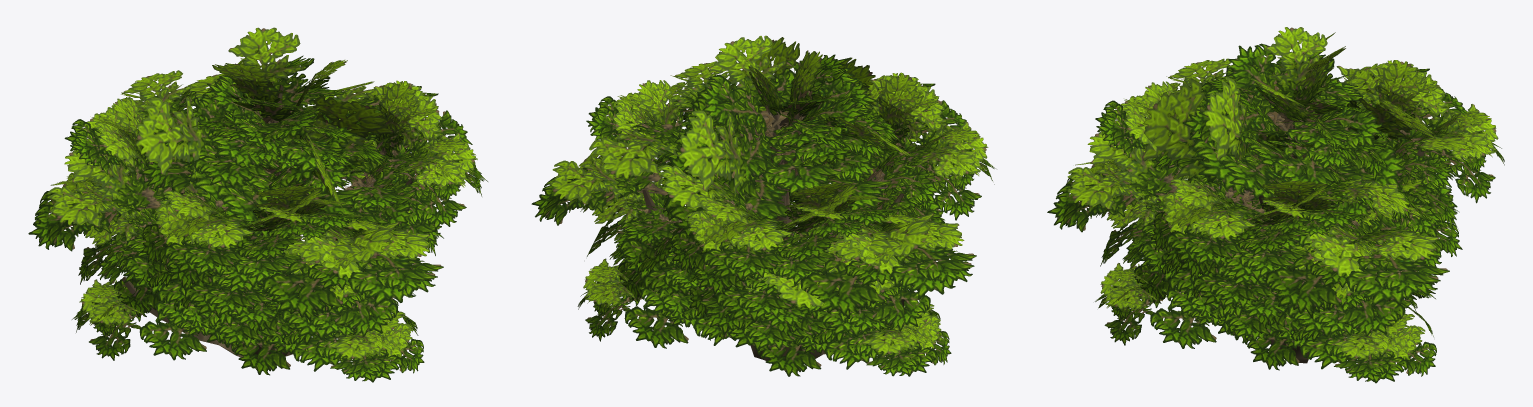
Rendered from e_asset_courtyard_tree_1.fbx.
The picture shows the model from 3 angles, left to right: view 1: azimuth 30°, elevation 25°; view 2: azimuth 150°, elevation 25°; view 3: azimuth 270°, elevation 25°; orthographic projection.
Parts seen in each view (by area): view 1: polySurface644; view 2: polySurface644; view 3: polySurface644.
Part boxes in pixels (bbox=[...]): polySurface644: bbox=[28, 27, 487, 382]; polySurface644: bbox=[531, 35, 995, 376]; polySurface644: bbox=[1047, 27, 1504, 383].
Bounding box in the file's own units: 4.85 × 3.47 × 4.67.
